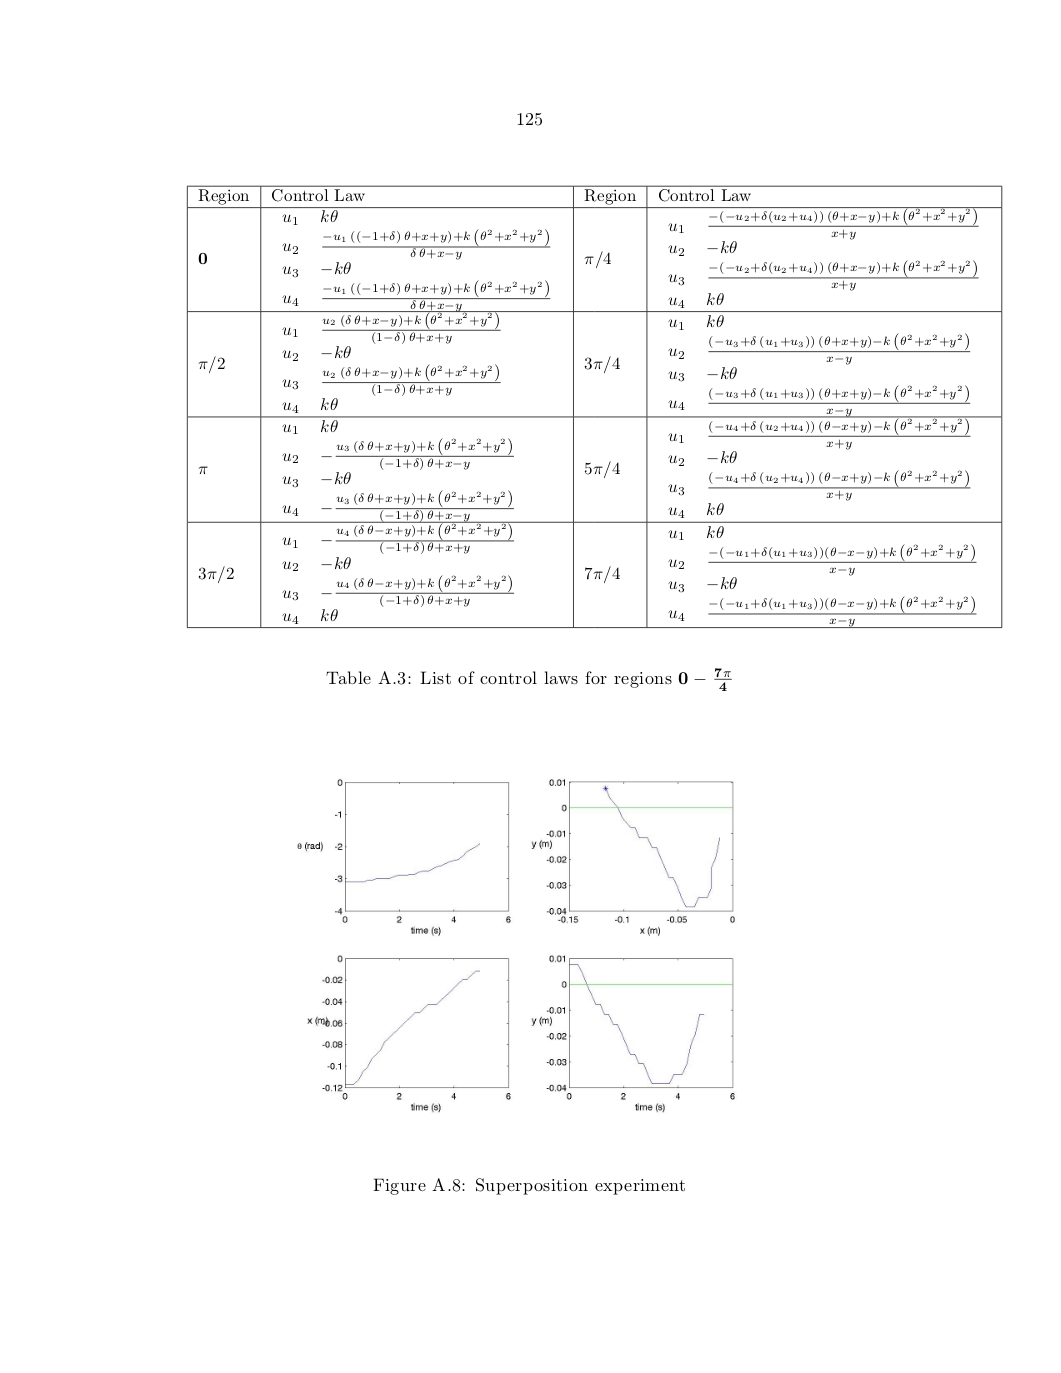Table: (186, 184, 1002, 629)
figure: (296, 779, 510, 935), (306, 955, 510, 1112), (530, 955, 734, 1112), (530, 779, 734, 935)
